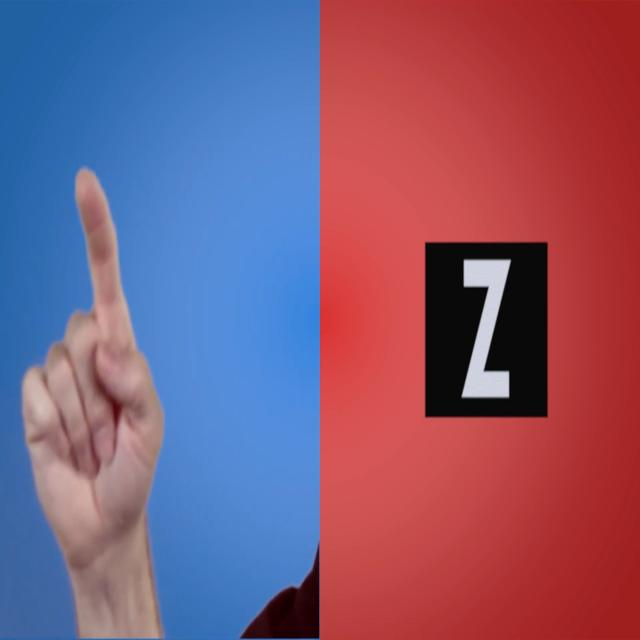Z: (8, 143, 184, 640)
